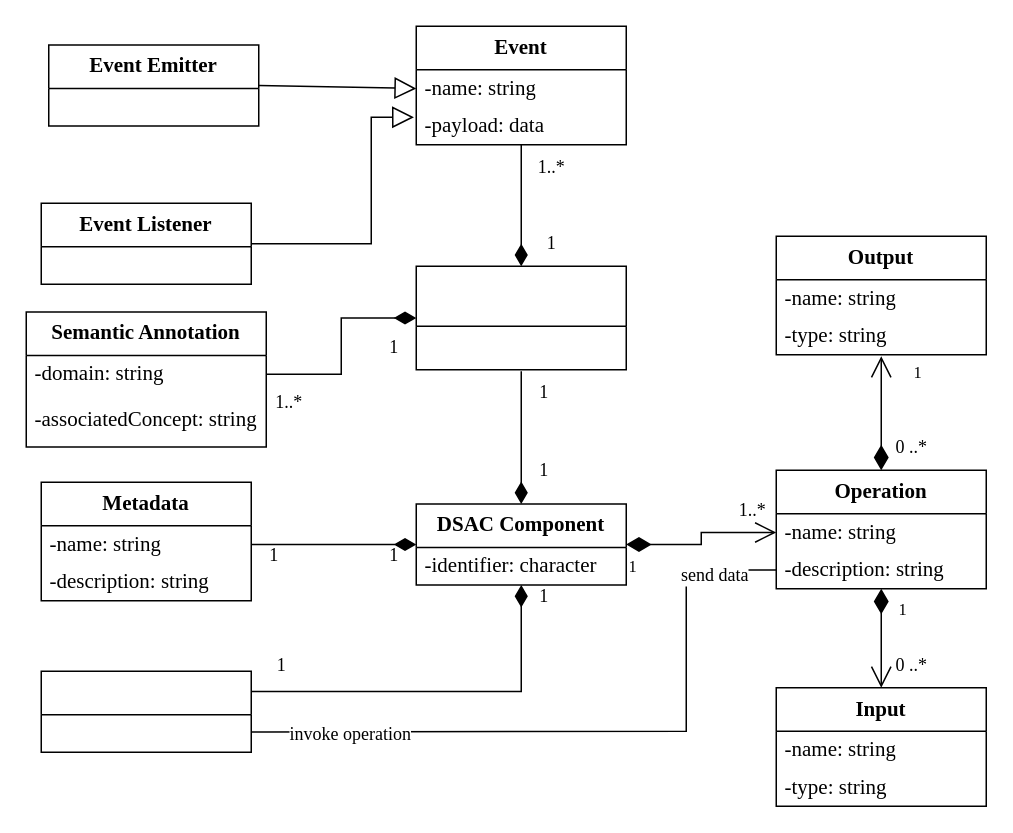
This 1013x833 diagram has some shape labels left out. The centre of each missing label's shape, as x and y in pixels:
Communication Interface: the point at 520,317
User Interface: the point at 145,711
